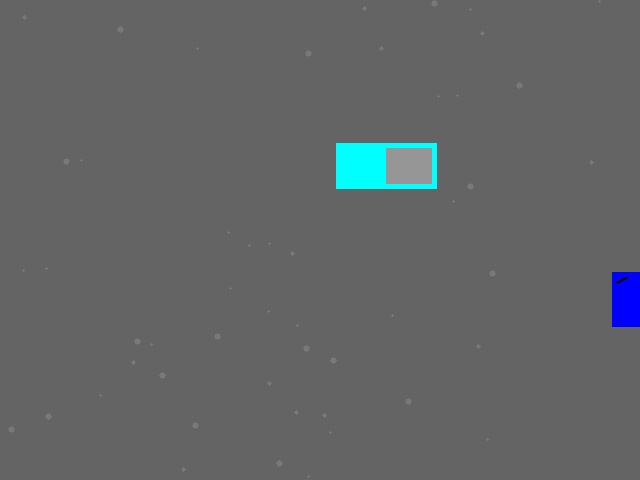motorcycle: (612, 272, 639, 326)
truck: (336, 143, 436, 188)
